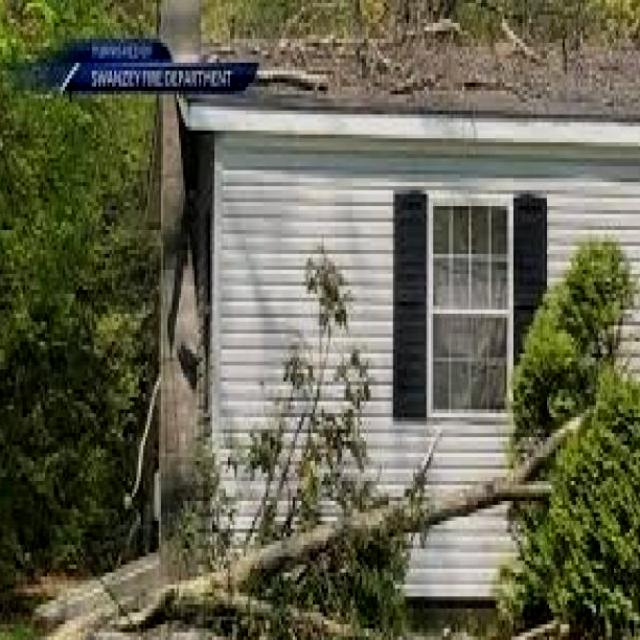fallen_object: (32, 372, 633, 640)
